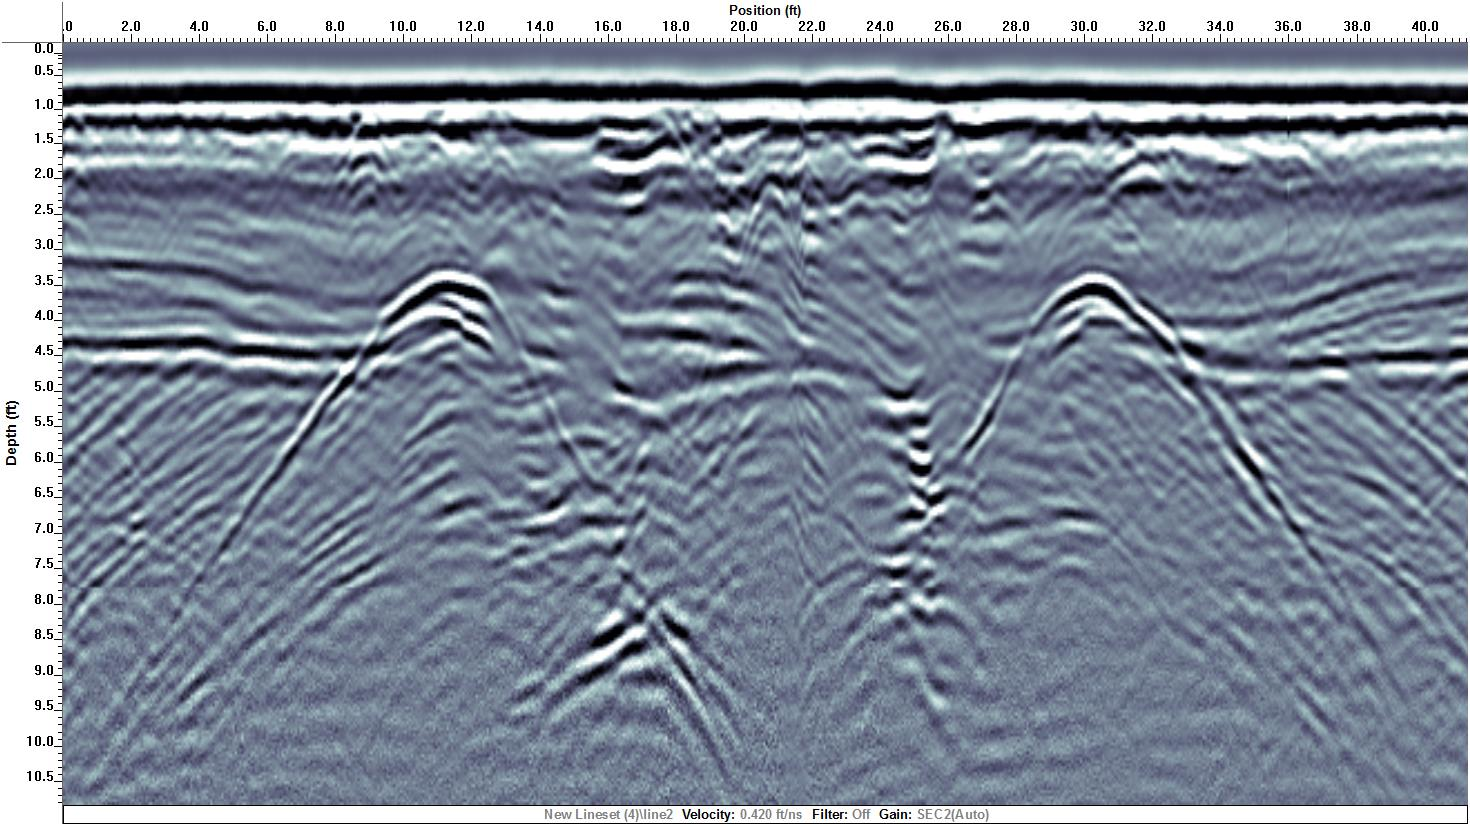hyperbola: (225, 252, 606, 524), (965, 264, 1242, 524)
